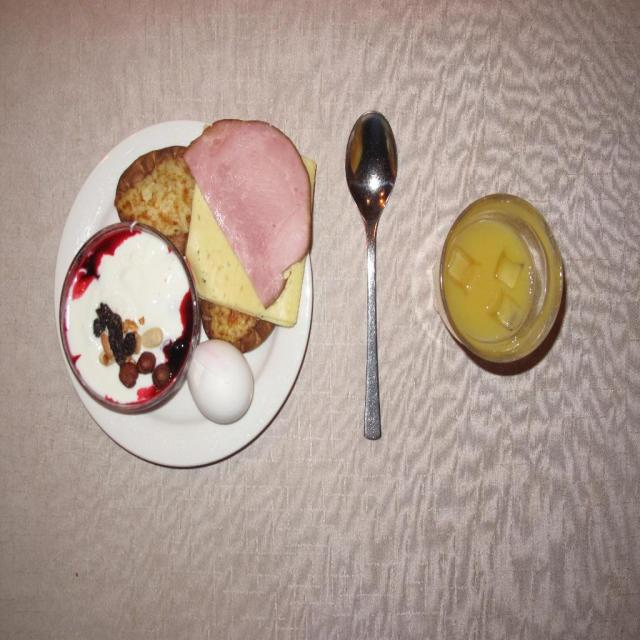non-organic waste: (50, 105, 352, 497)
